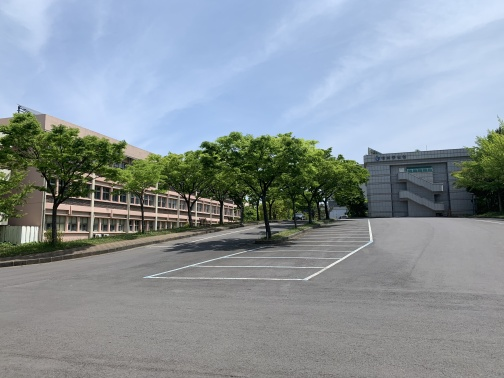College Of Education: (5, 104, 247, 258)
